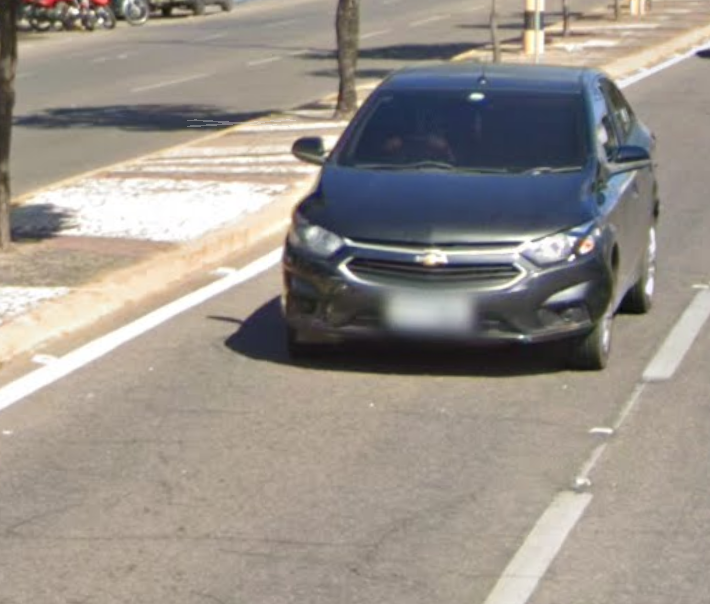car: (275, 50, 669, 400)
